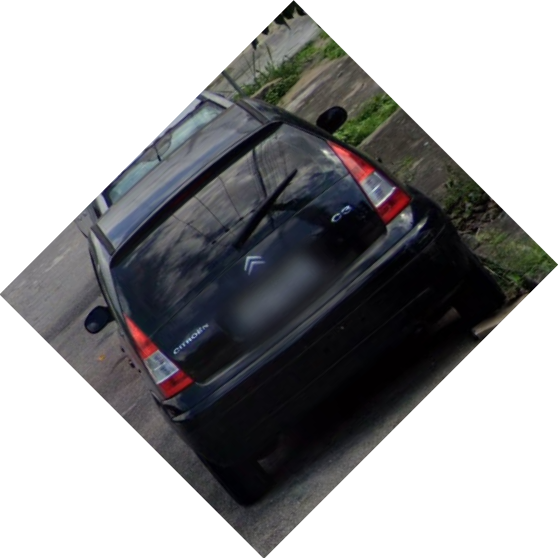car: (88, 99, 506, 504)
